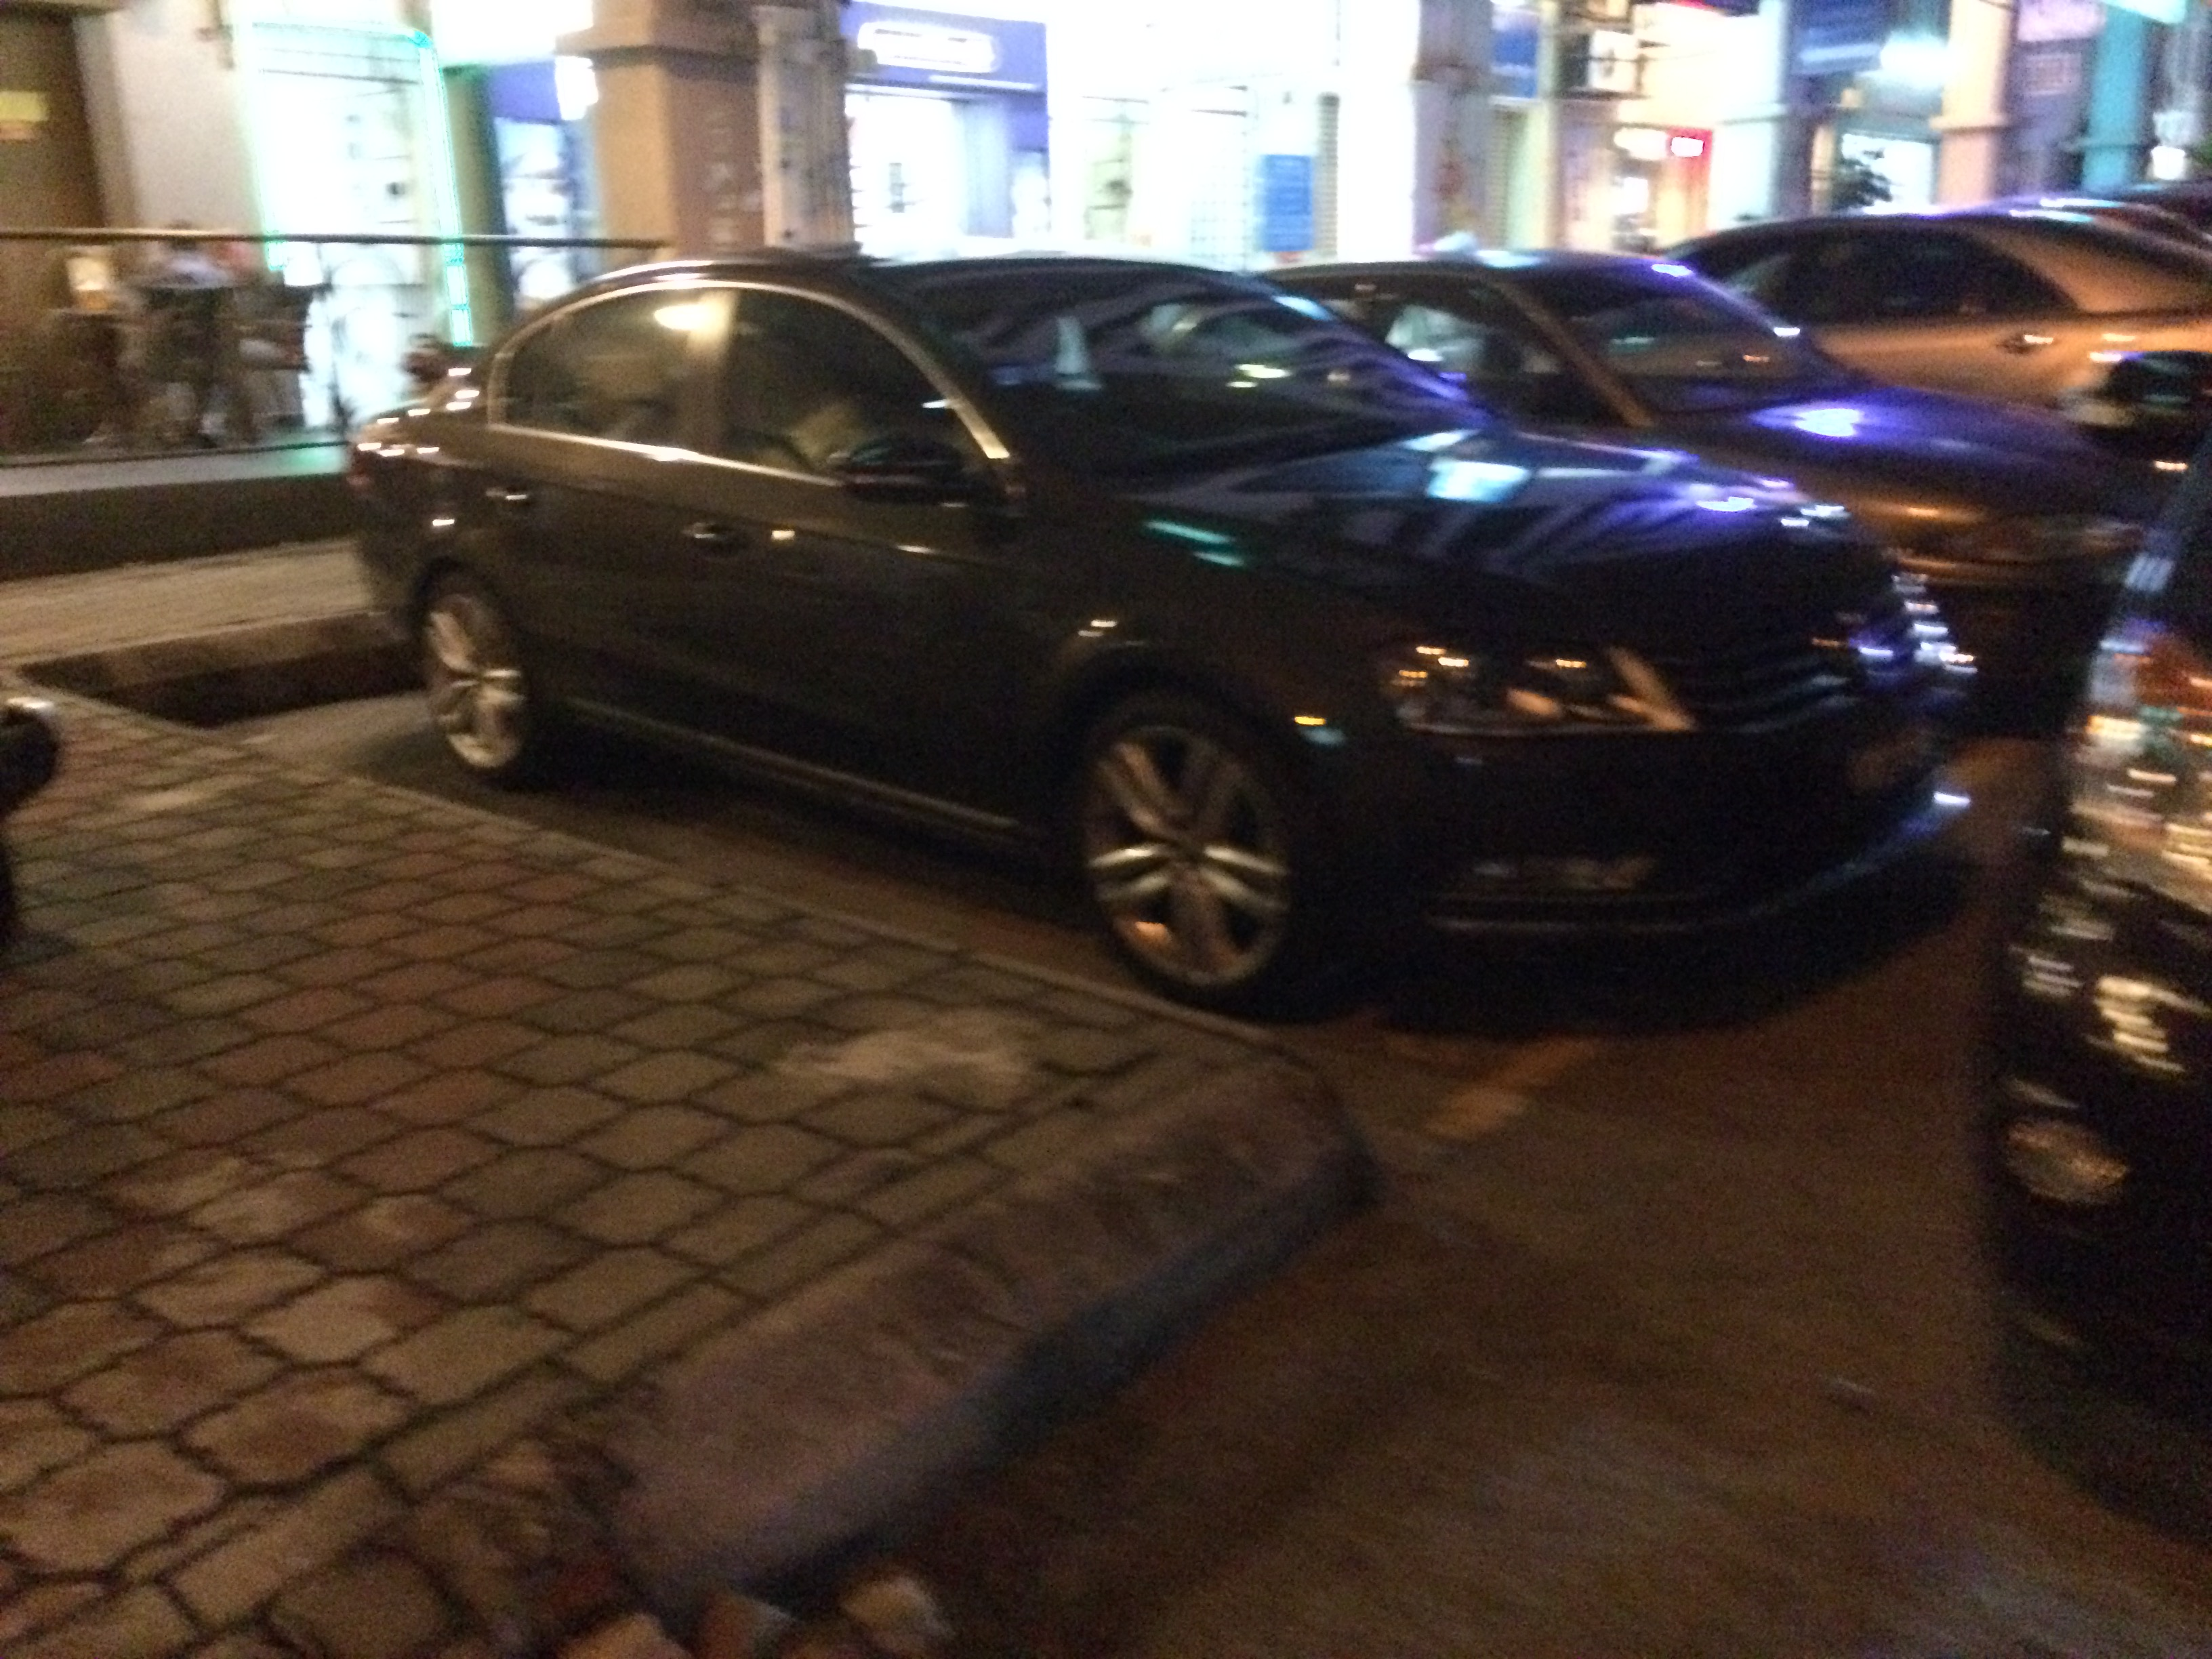car: (308, 220, 2006, 1042)
